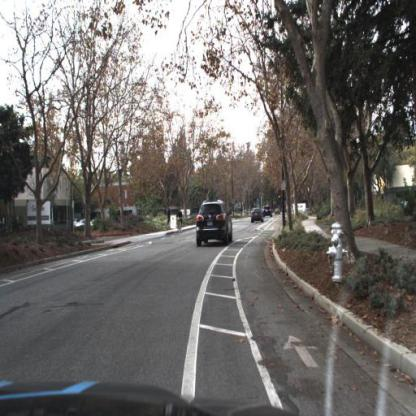biker: (177, 209, 186, 233), (178, 210, 186, 235)
car: (195, 198, 235, 251), (251, 207, 265, 224), (77, 219, 94, 230), (264, 206, 273, 219)
pedestrian: (166, 208, 172, 226)
